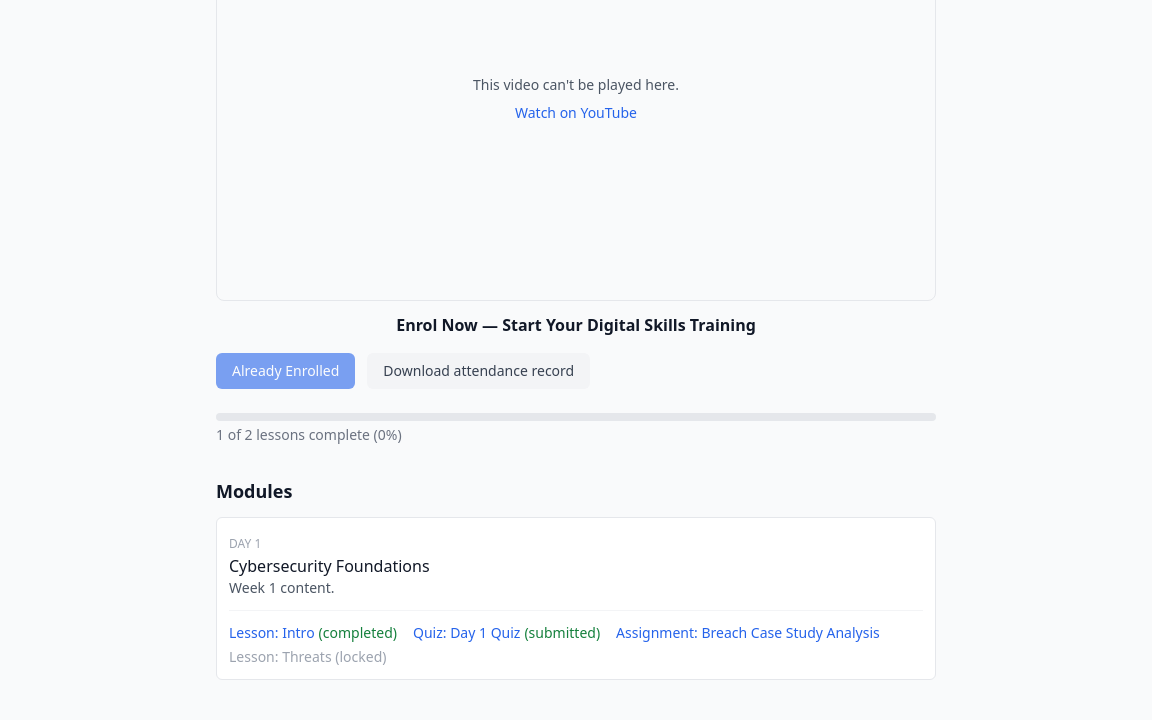
Test: CourseDetailPage day gate › locks lesson 2 and pops up the outstanding quiz and assignment when clicked
This screenshot has width=1152, height=720.
(page scrolled)
expect the link "Lesson: Intro(completed)" is shown: met, box [229,623,397,643]
Click the button "Lesson: Threats (locked)".
click(308, 657)  # box [229,647,386,667]
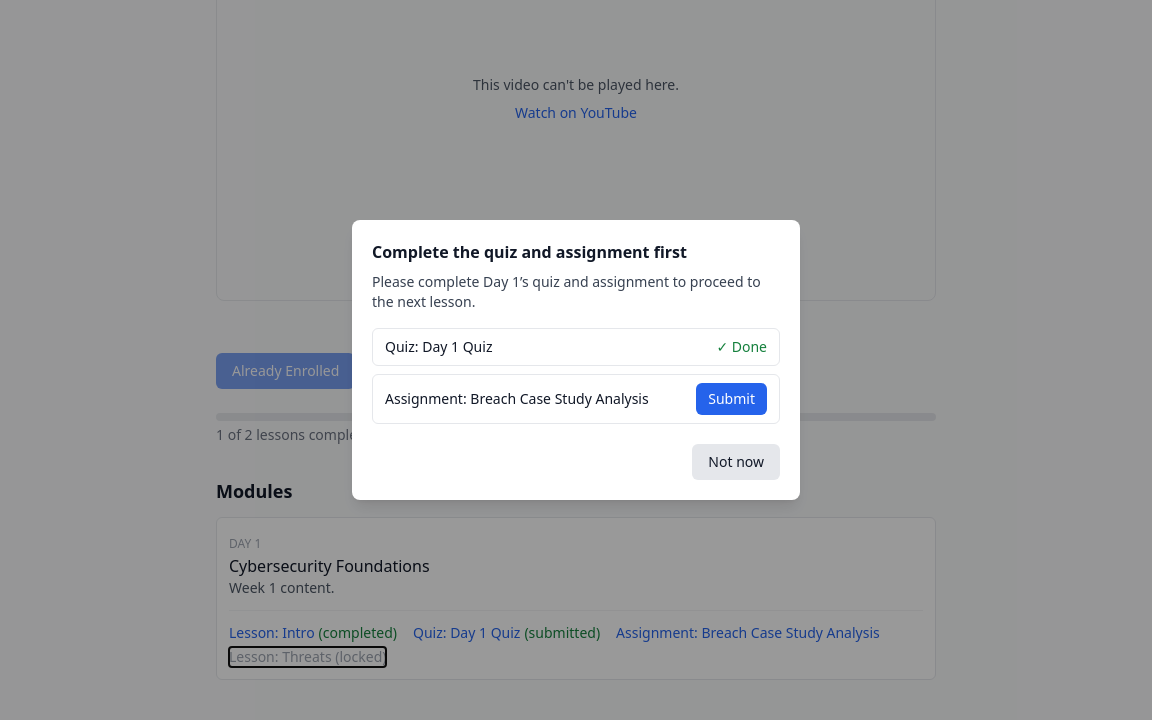
expect the dialog shows "complete Day 1.s quiz and assignment to proceed to the next lesson": met
expect the dialog shows "Done": met, box [716,337,767,356]
